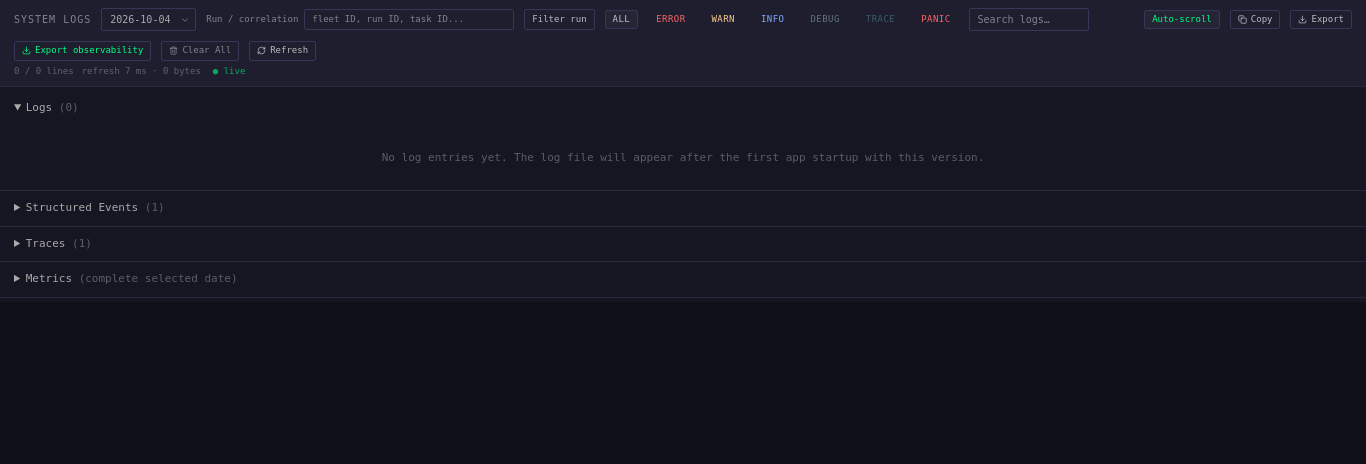
Test: Logs tab › renders the persisted Memory search operation in Structured Events and Traces
What coordinates should you click on to do the following:
click the heading "Structured Events (1)"
I would click on:
 (95, 208)
Its box is [26,201,165,214].
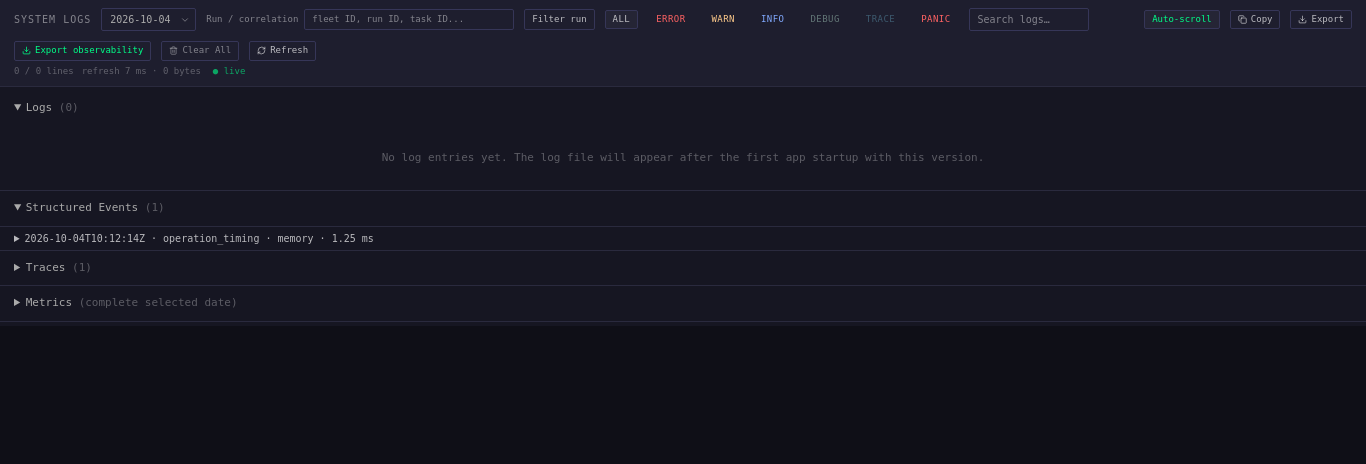
What coordinates should you click on to do the following:
click the heading "Traces (1)"
I would click on:
 (59, 267)
Its box is [26,260,92,274].
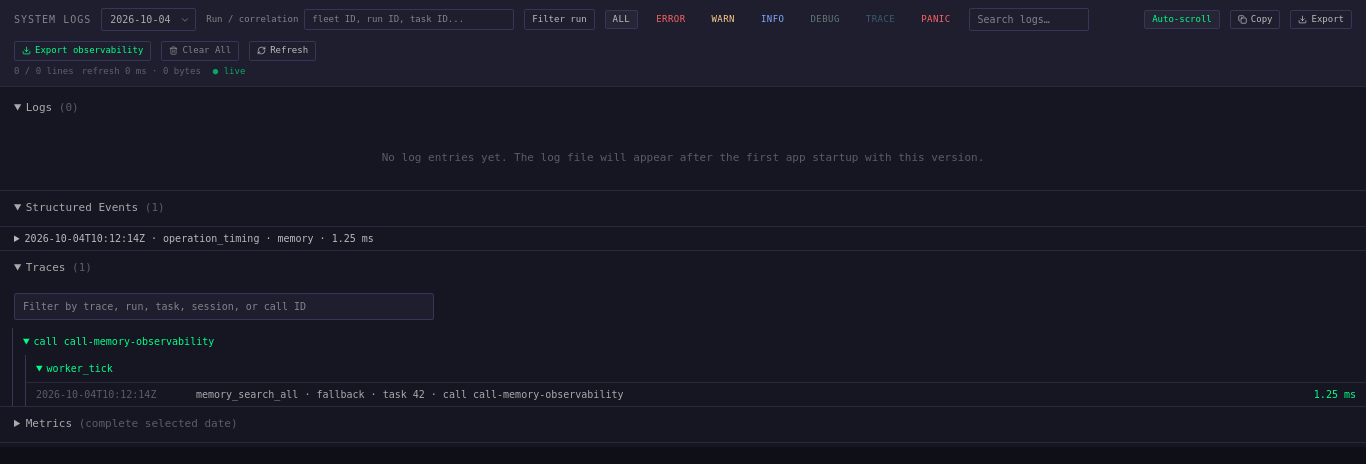
Check: the text "call call-memory-observability" shows "memory_search_all", box [196,389,298,400]
Check: the text "call call-memory-observability" shows "fallback", box [298,389,365,400]
Check: the text "call call-memory-observability" shows "1.25 ms", box [1314,389,1356,400]
